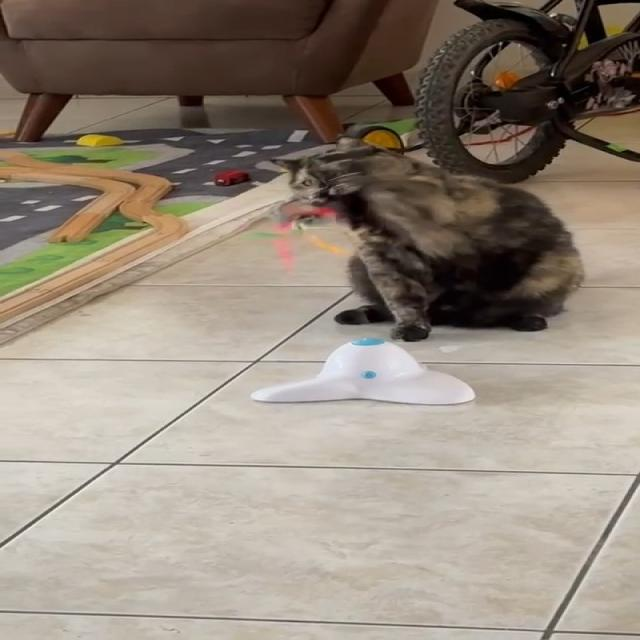authorized: (268, 139, 585, 342)
